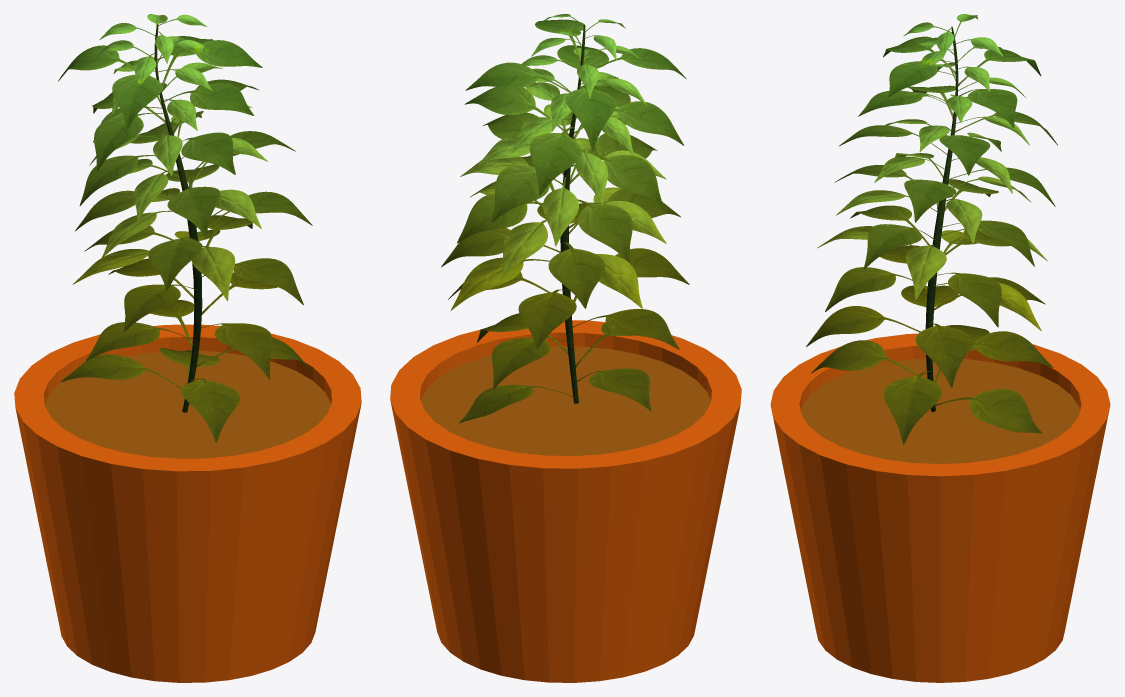
The model's file is plant_young.fbx.
The picture shows the model from 3 angles, left to right: view 1: azimuth 30°, elevation 25°; view 2: azimuth 150°, elevation 25°; view 3: azimuth 270°, elevation 25°; orthographic projection. The views are drawn at different scales.
Visible parts, largest first — view 1: Pot.004, Circle.003, Plane.004; view 2: Pot.004, Circle.003, Plane.004; view 3: Pot.004, Circle.003, Plane.004.
Boxes of the visible parts, bbox=[...] form: Pot.004: bbox=[14, 324, 361, 682]; Circle.003: bbox=[58, 14, 313, 442]; Plane.004: bbox=[154, 24, 202, 412]; Pot.004: bbox=[390, 320, 741, 682]; Circle.003: bbox=[441, 14, 689, 423]; Plane.004: bbox=[560, 25, 585, 403]; Pot.004: bbox=[770, 333, 1110, 682]; Circle.003: bbox=[806, 14, 1057, 444]; Plane.004: bbox=[925, 26, 958, 411].
Bounding box in the file's own units: 46.31 × 89.44 × 46.31.
4 materials, 2 textured.
